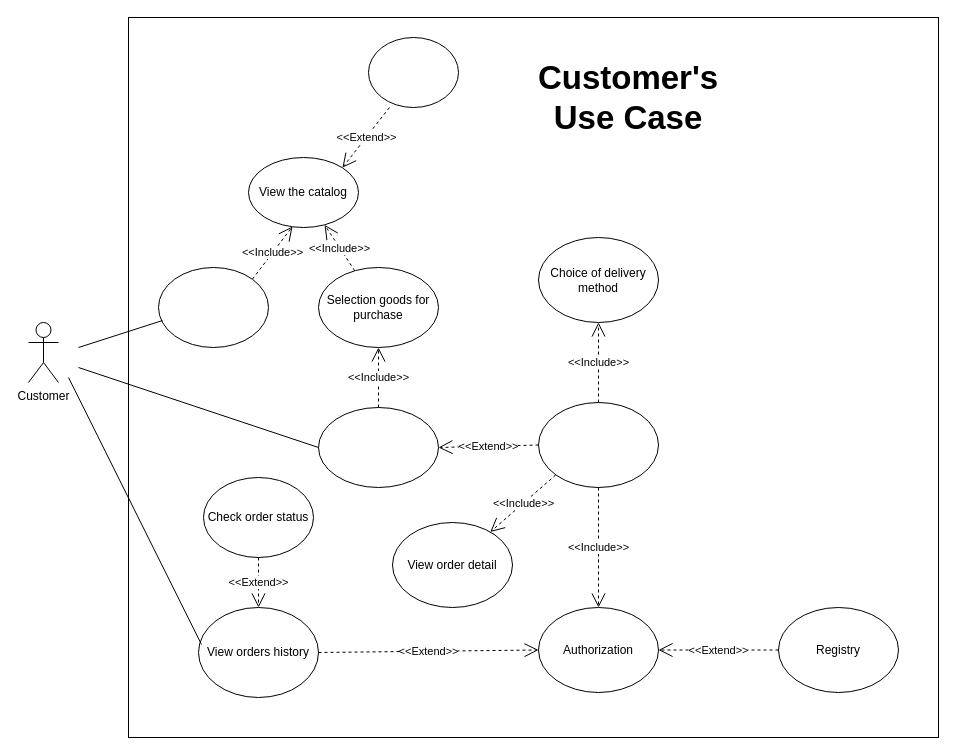
This 956x755 diagram has some shape labels left out. Here are the shapes that lost their labels. From the top down, the centre of each, then its label:
At (x=413, y=72): "Search through the site".
At (x=213, y=307): "View good information".
At (x=378, y=447): "Order formation".
At (x=598, y=445): "Ordering".
